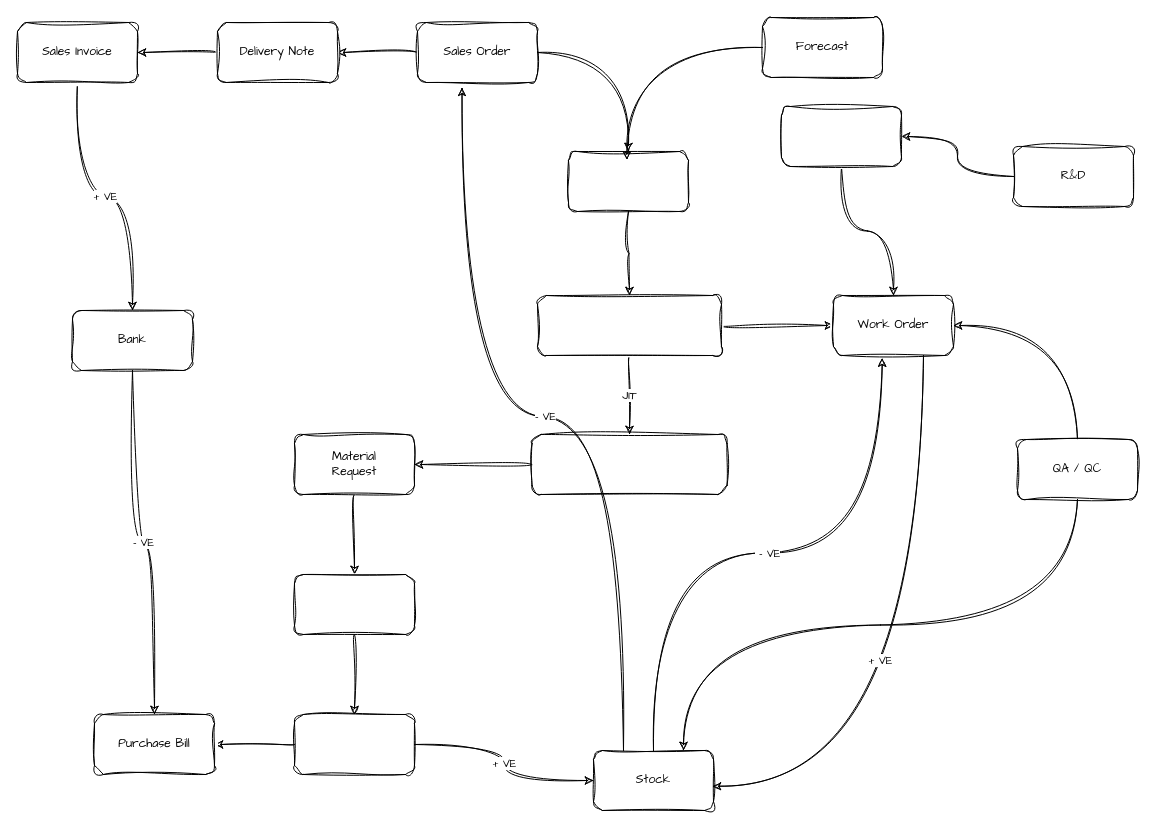
Some shapes in this 1155 by 828 pixel diagram are drawn without their labels. Here are the shapes that lost their labels. From the top down, the centre of each, then its label:
At (x=841, y=136): "BOM".
At (x=628, y=181): "Demand".
At (x=629, y=325): "MPS (Master Production Schedule)".
At (x=629, y=464): "MRP (Material Requirement Planning)".
At (x=354, y=604): "PO".
At (x=354, y=744): "GRN".
